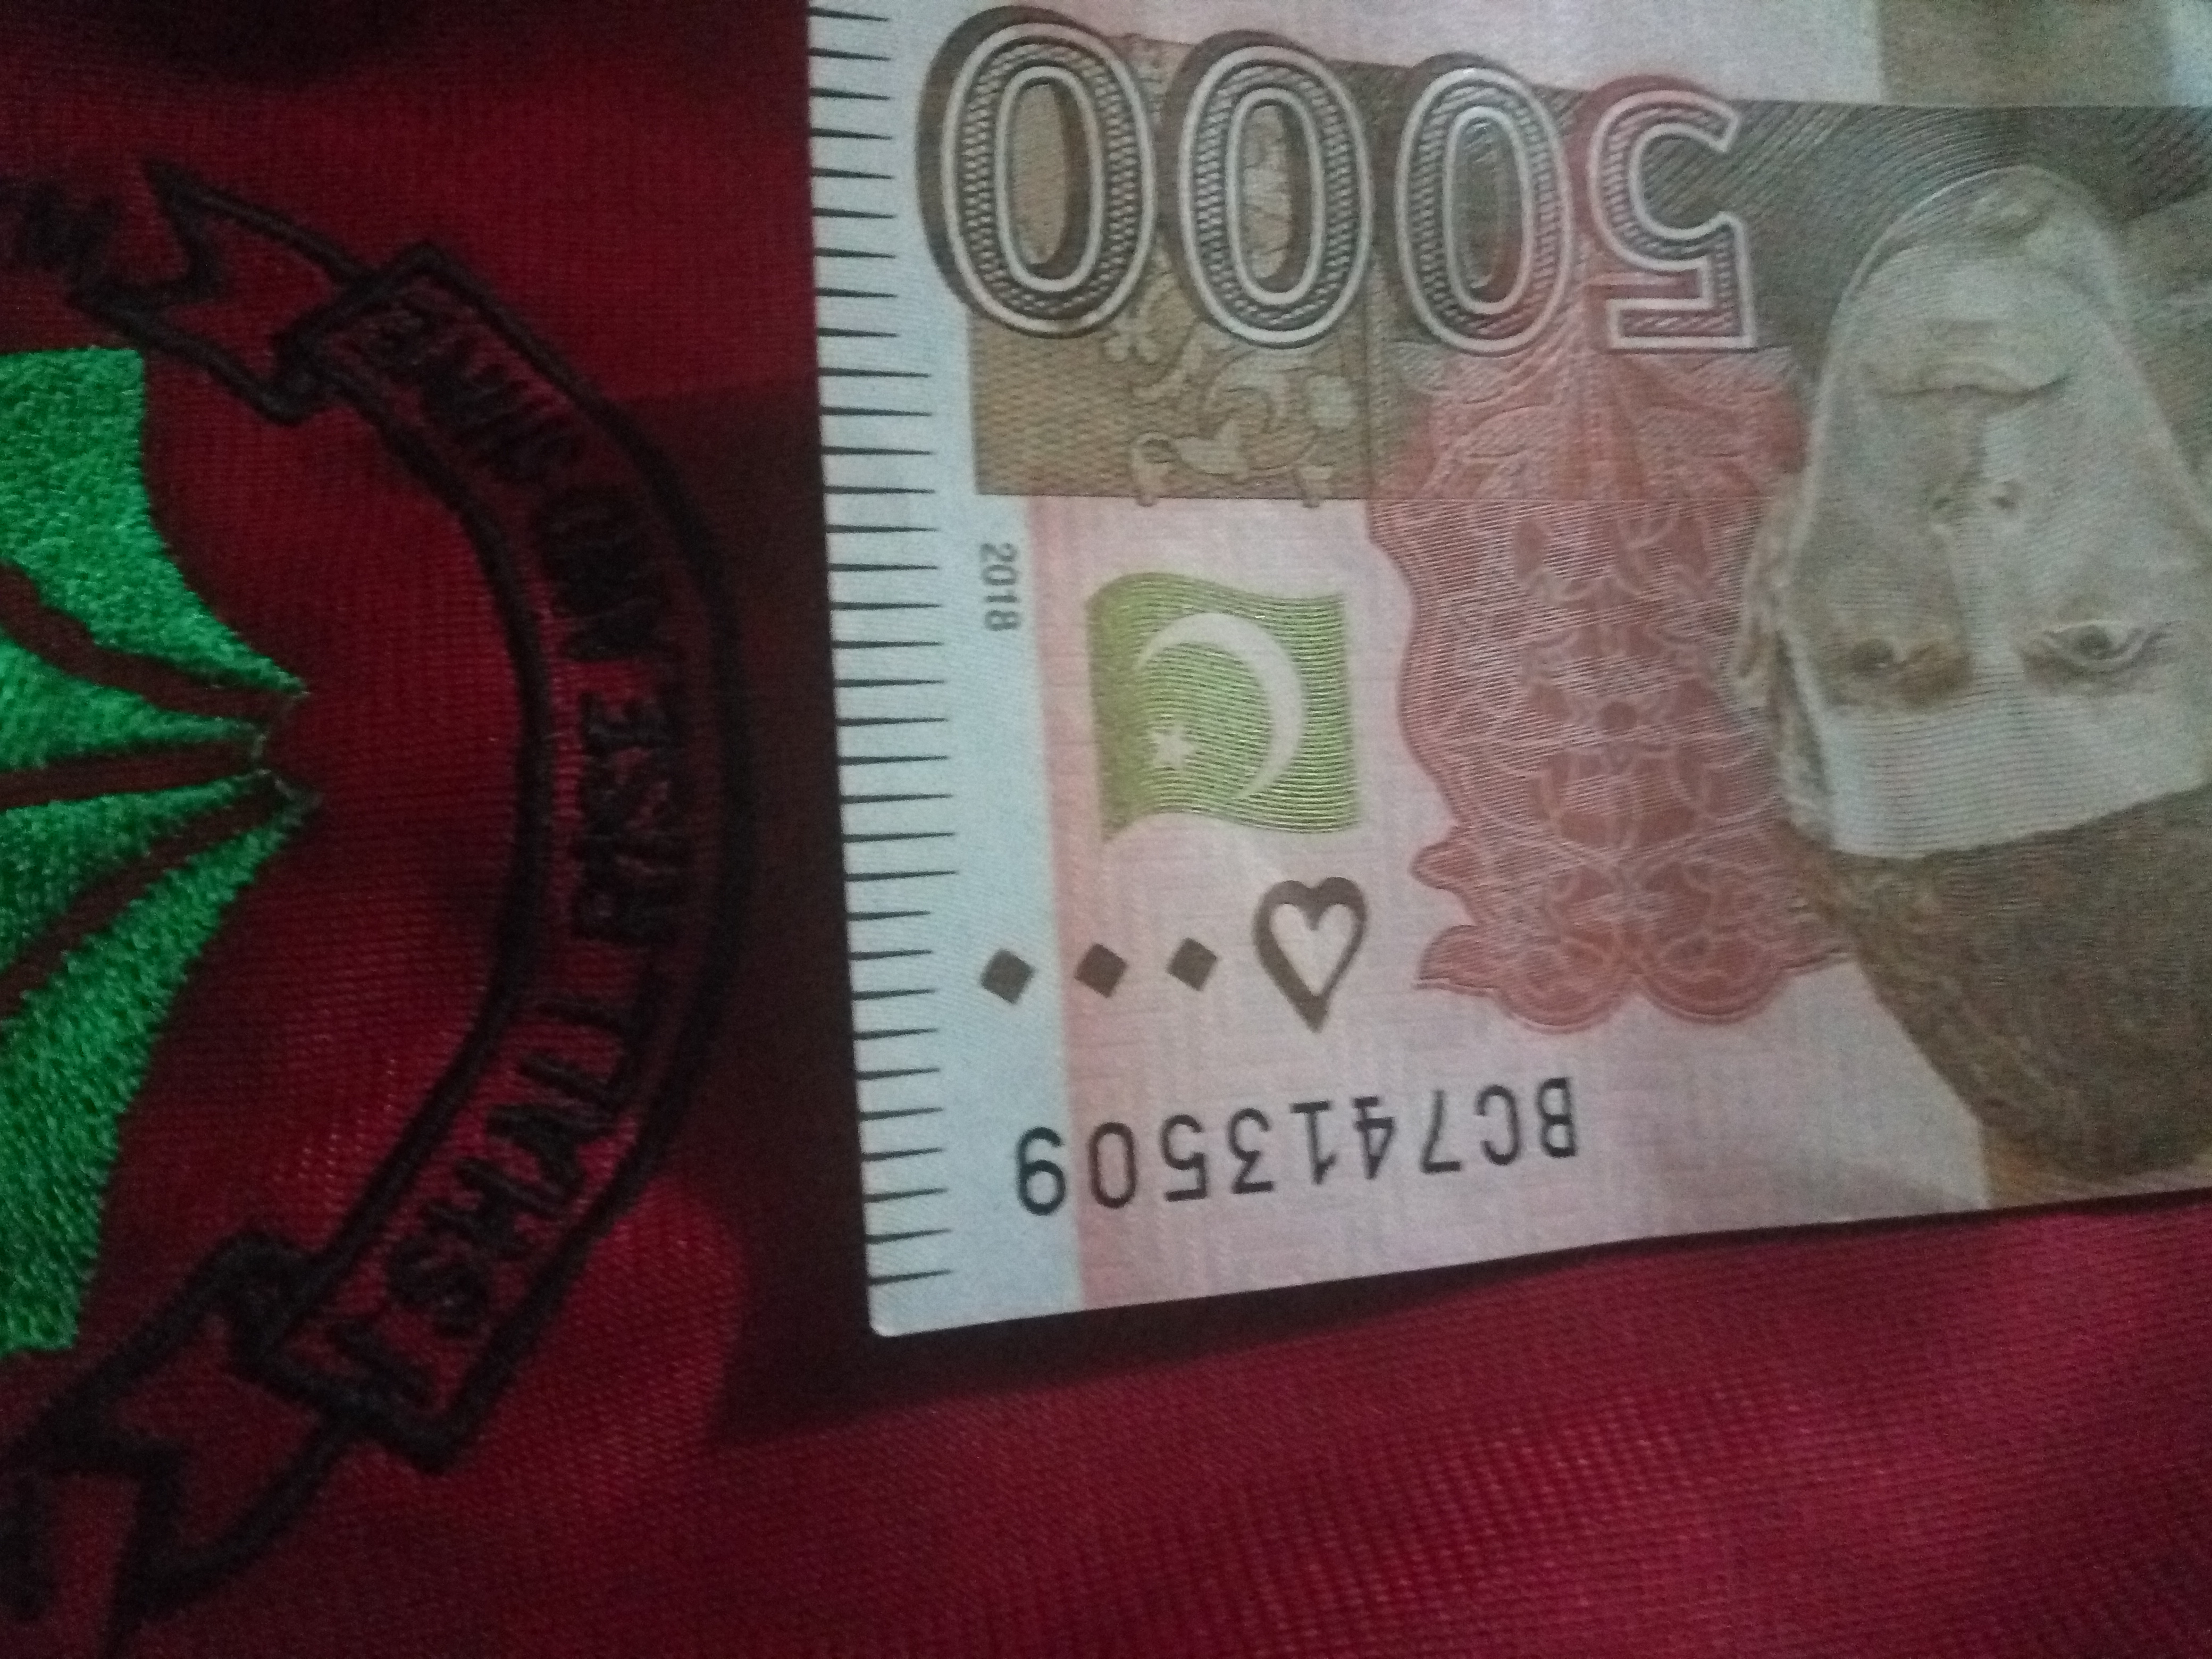5000 rupee: (786, 7, 2196, 1312), (916, 533, 1442, 1066)
